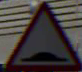Speed Breaker ahead: (8, 4, 73, 66)
